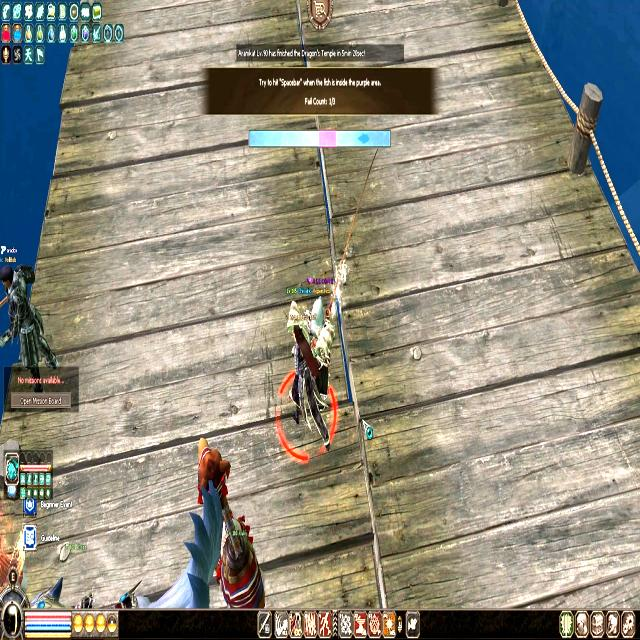fishes: (357, 132, 369, 145)
